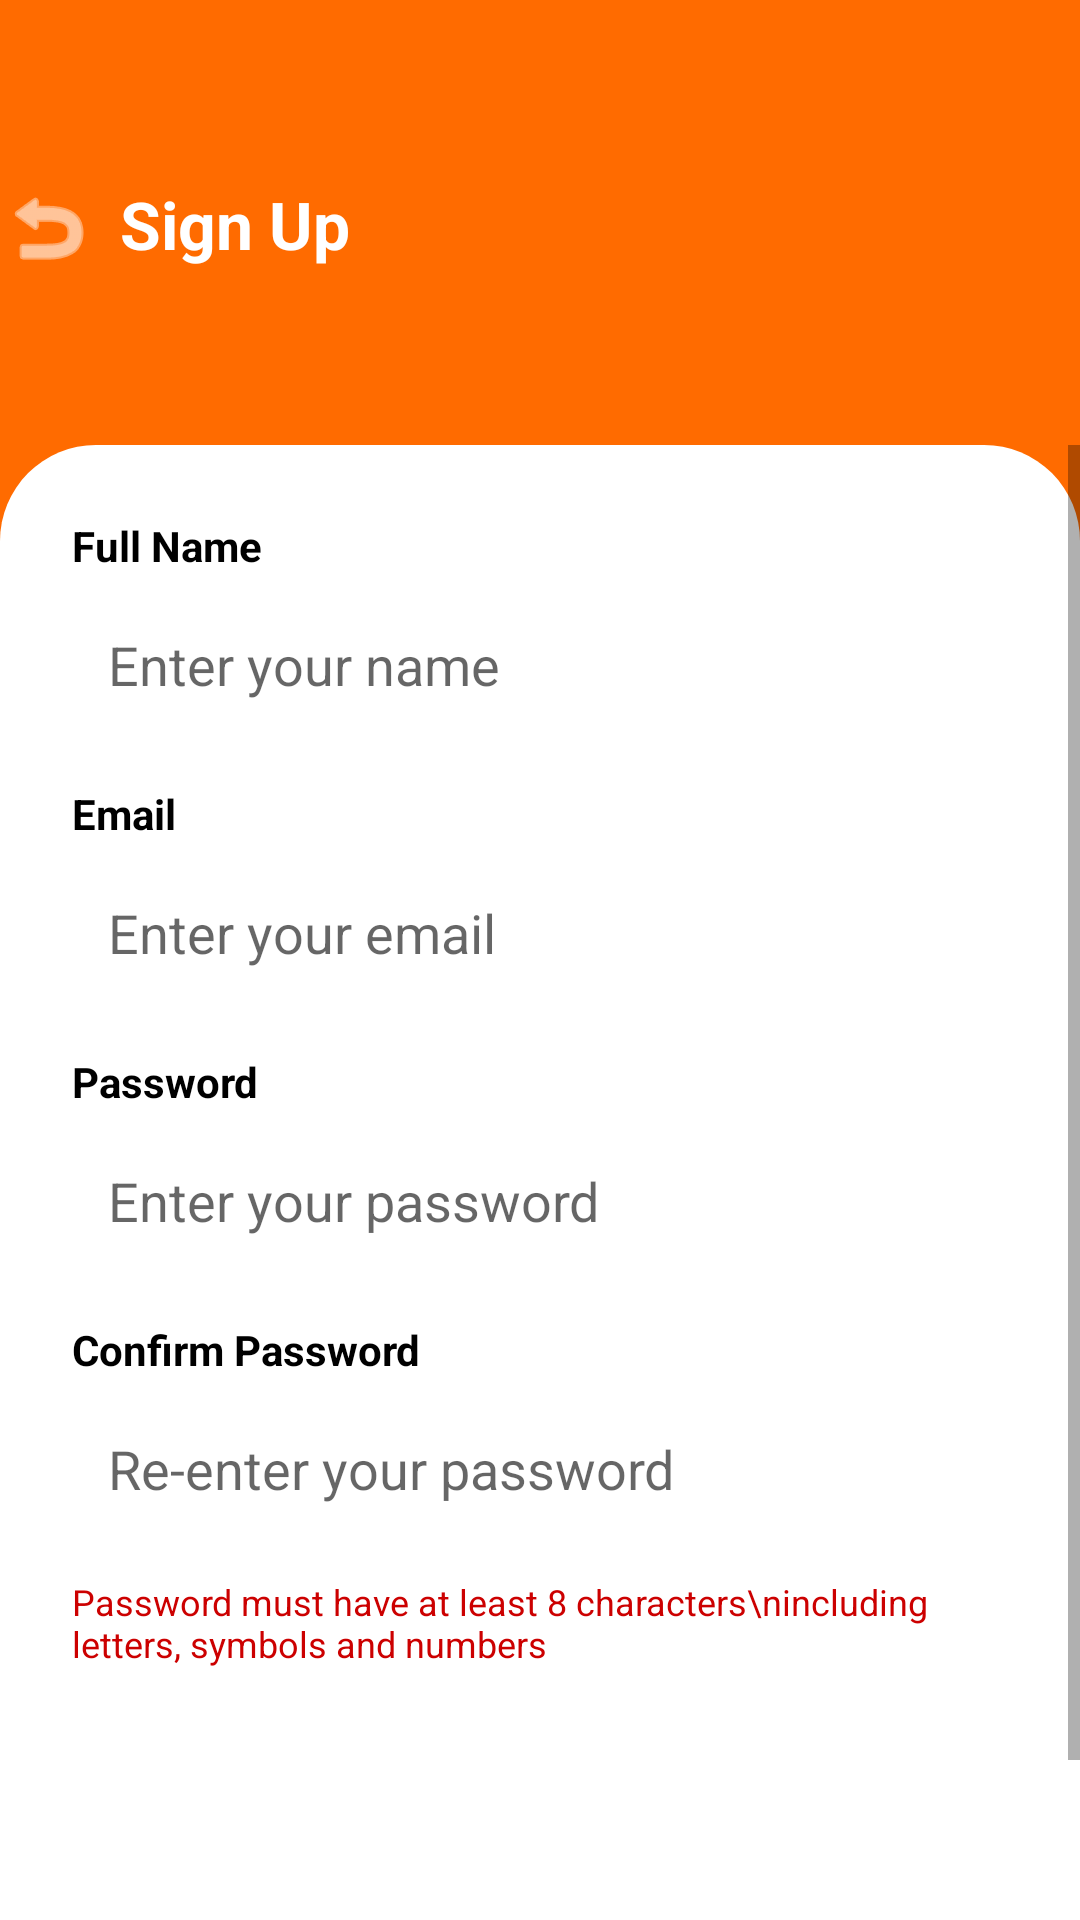

Icons on this 1080 x 1920 Android screen, each with its box as detection(x1, y1, x2, y2):
revert: detection(15, 197, 84, 260)
